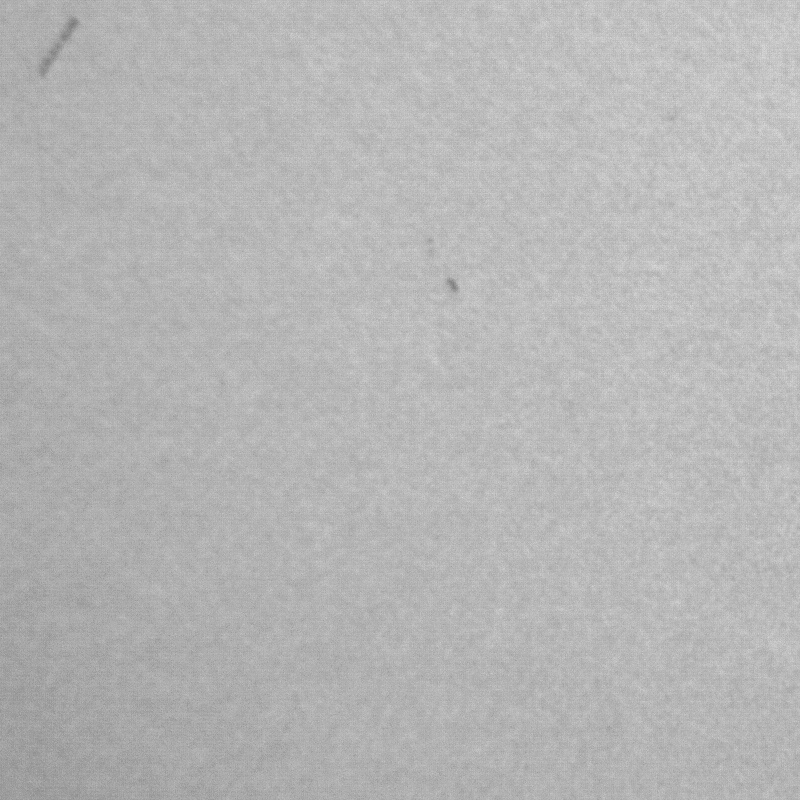defect: (37, 16, 77, 81), (445, 271, 467, 297), (424, 236, 438, 260)
